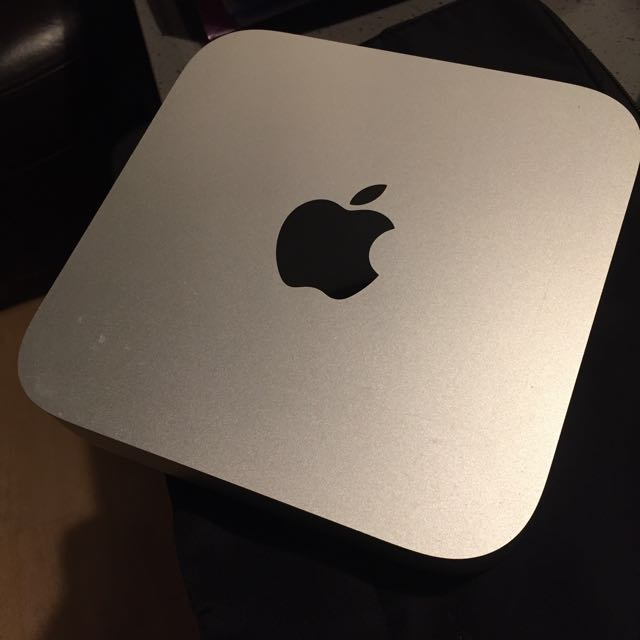apple: (265, 158, 414, 318)
